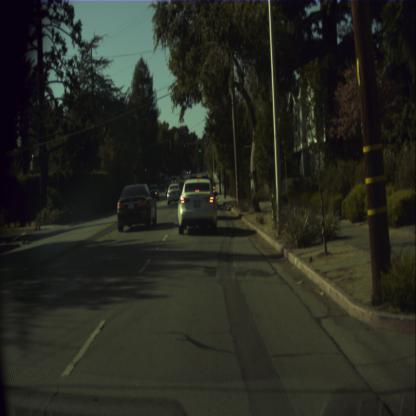Green: (198, 144, 200, 152)
Red: (183, 143, 185, 152), (144, 167, 146, 176)
